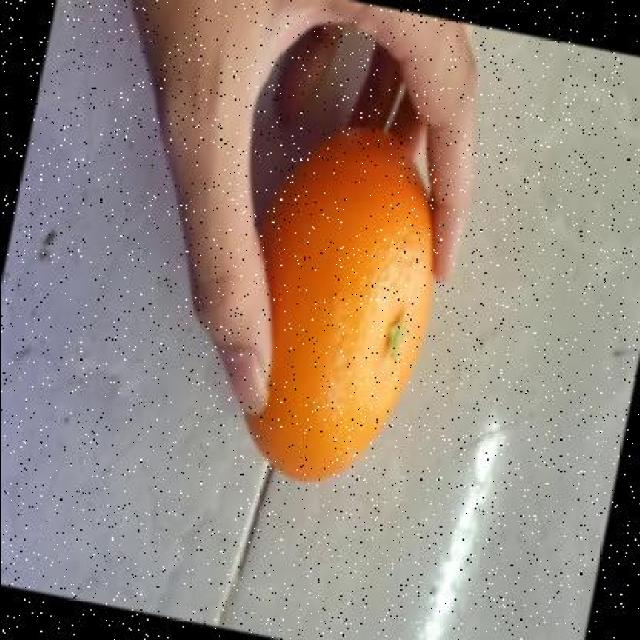Orange: (248, 125, 437, 483)
